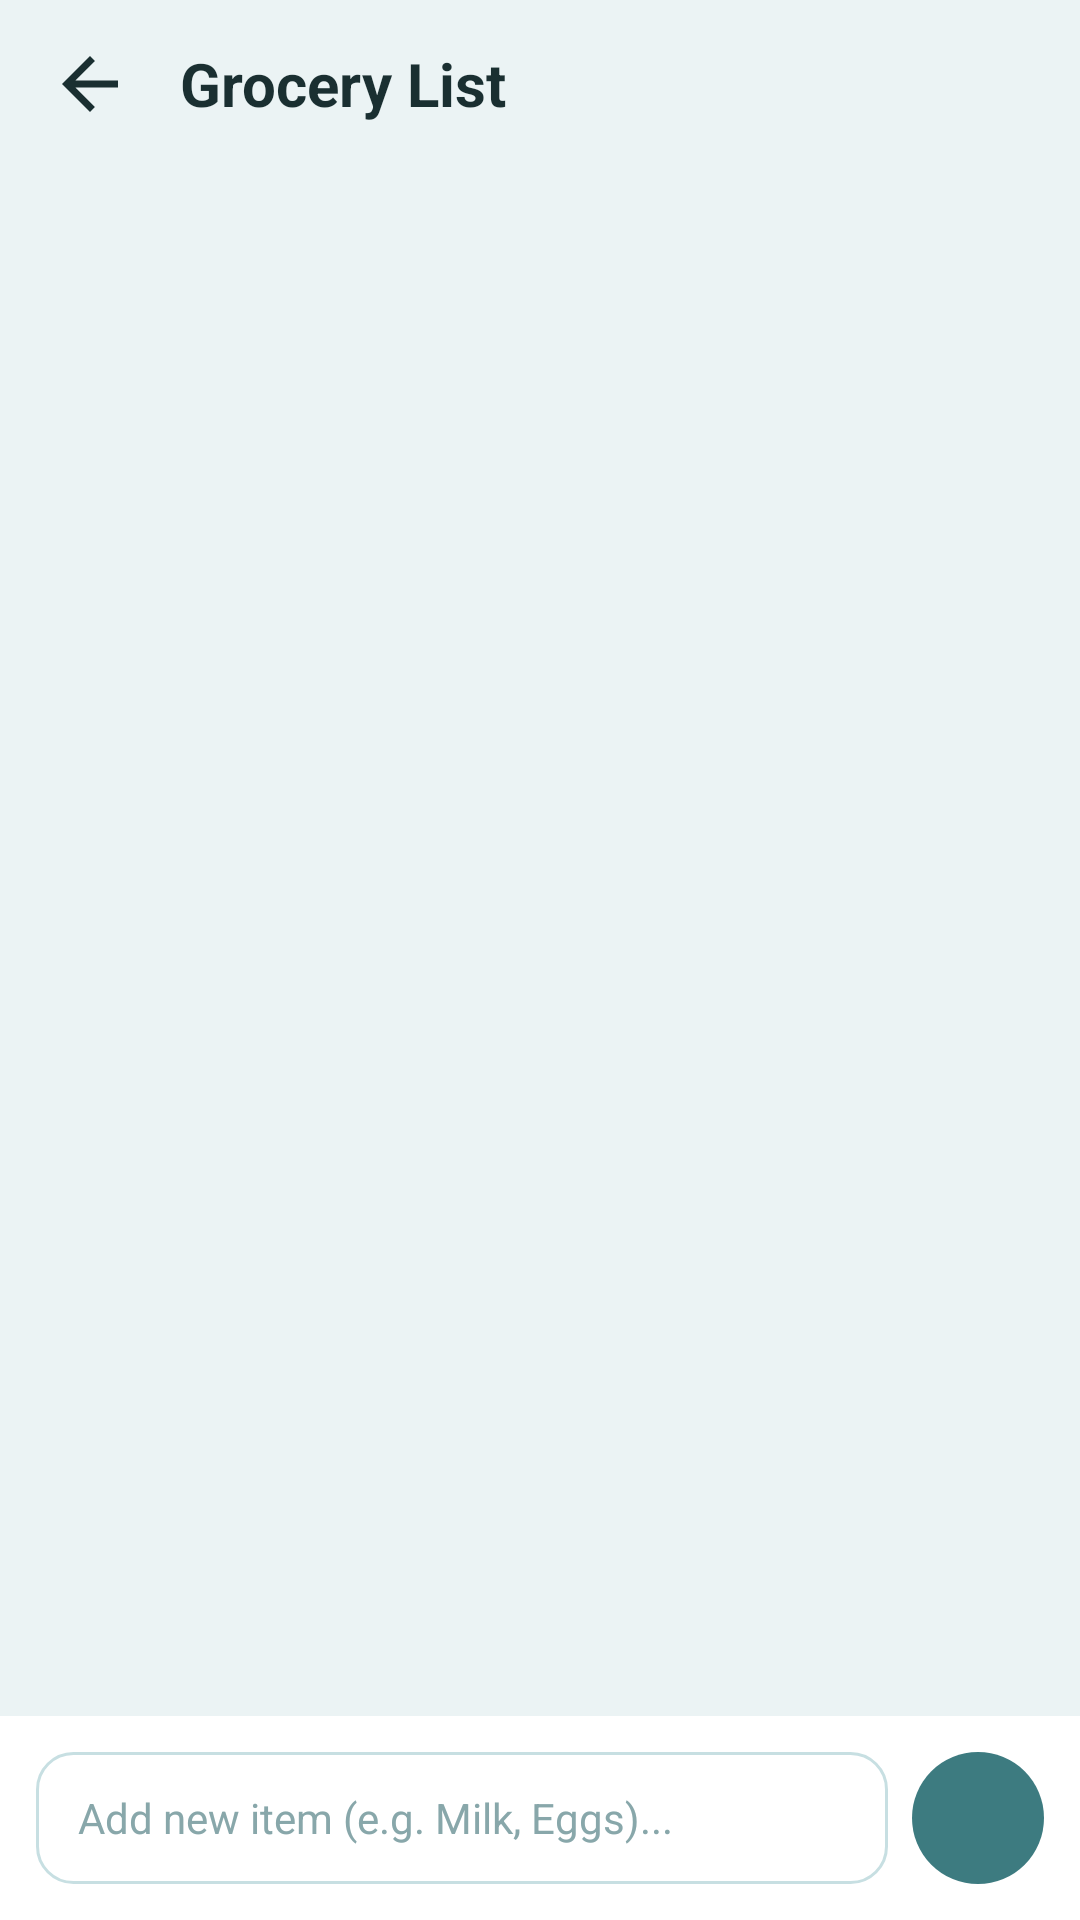

Icons on this 1080 × 1920 Android screen, each with its box as (x1, y1, x2, y2):
Back: (62, 56, 118, 112)
